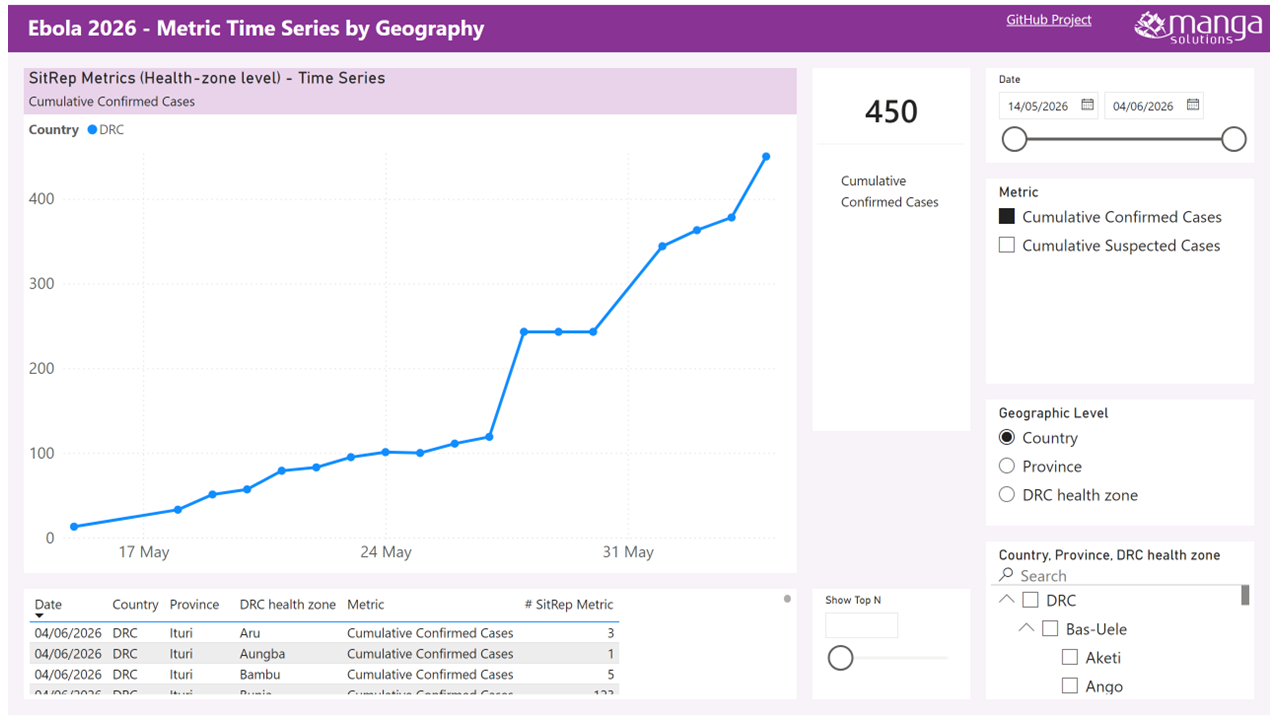

The dashboard page shown, as its layout file describes it:
{"tool":"powerbi","page":{"name":"Metric Time Series by Geography","canvas":[1280,720],"ordinal":0},"visuals":[{"type":"textbox","box":[0,0,1280,48],"z":0},{"type":"textbox","box":[992,0,112,32],"z":1000},{"type":"lineChart","title":"SitRep Metrics (Health-zone level) - Time Series","fields":{"Category":["Dates.Date"],"Series":["DRC Health Zones.Country"],"Y":["SitRep Metrics.# SitRep Metric"]},"box":[16,64,784,512],"z":2000},{"type":"cardVisual","fields":{"Data":["SitRep Metrics.# SitRep Metric"]},"box":[816,64,160,368],"z":3000},{"type":"slicer","fields":{"Values":["Dates.Date"]},"box":[992,64,272,96],"z":4000},{"type":"slicer","fields":{"Values":["SitRep Metrics.Metric"]},"box":[992,176,272,208],"z":5000},{"type":"tableEx","fields":{"Values":["Dates.Date","DRC Health Zones.Country","DRC Health Zones.Province","DRC_Health_zones.DRC health zone","SitRep Metrics.Metric","SitRep Metrics.# SitRep Metric"]},"box":[16,592,784,112],"z":6000},{"type":"slicer","fields":{"Values":["Parameter.Parameter"]},"box":[992,400,272,128],"z":7000},{"type":"slicer","fields":{"Values":["DRC Health Zones.Country","DRC Health Zones.Province","DRC Health Zones.DRC health zone"]},"box":[992,544,272,160],"z":8000},{"type":"slicer","fields":{"Values":["^ N.^ N"]},"box":[816,592,160,112],"z":9000},{"type":"image","box":[1136,0,144,48],"z":10000}]}

Visuals, with their boxes in screenshot pixels (x1, y1, x2, y2), scaled from the page's 1280x720 canvas onto the 1280x720 screenshot:
textbox: l=0, t=0, r=1279, b=48
textbox: l=992, t=0, r=1104, b=32
"SitRep Metrics (Health-zone level) - Time Series" lineChart: l=16, t=64, r=800, b=576
cardVisual - SitRep Metrics.# SitRep Metric: l=816, t=64, r=976, b=432
slicer - Dates.Date: l=992, t=64, r=1264, b=160
slicer - SitRep Metrics.Metric: l=992, t=176, r=1264, b=384
tableEx - Dates.Date x DRC Health Zones.Country: l=16, t=592, r=800, b=704
slicer - Parameter.Parameter: l=992, t=400, r=1264, b=528
slicer - DRC Health Zones.Country x DRC Health Zones.Province: l=992, t=544, r=1264, b=704
slicer - ^ N.^ N: l=816, t=592, r=976, b=704
image: l=1136, t=0, r=1279, b=48
